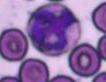N: (28, 2, 80, 55)
